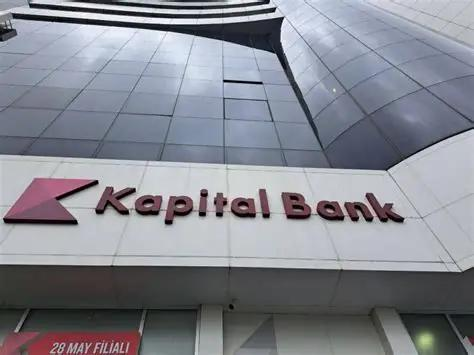Kapital Bank: (1, 175, 100, 225)
